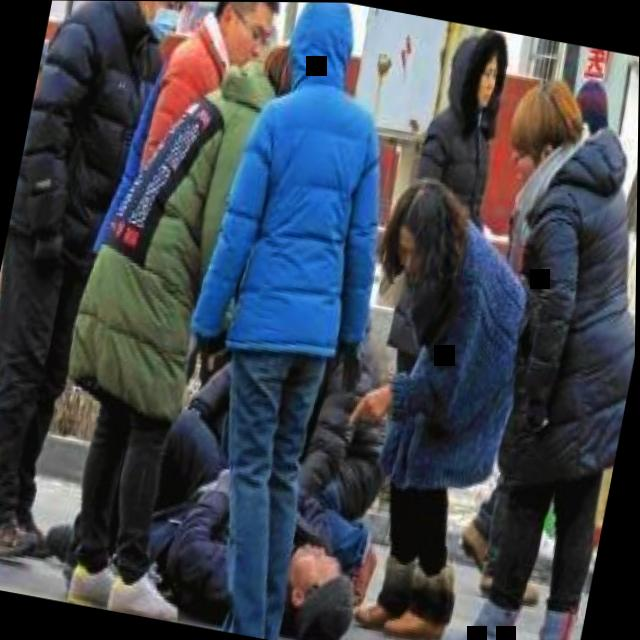Fall-Detected: (98, 389, 415, 640)
